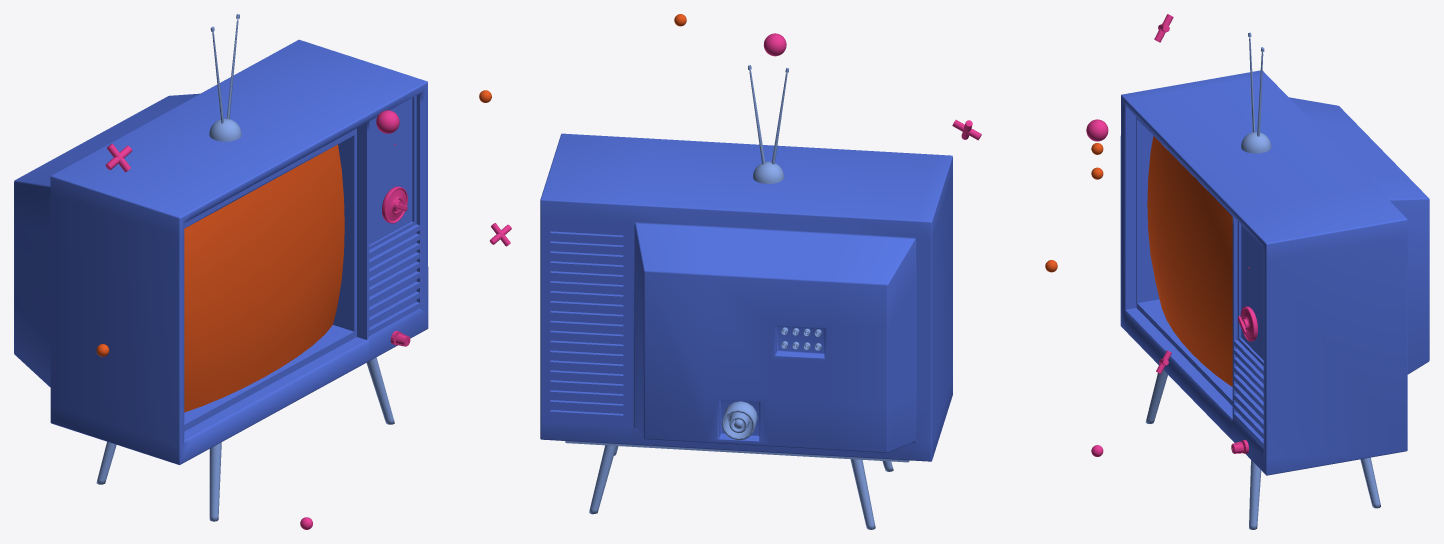
Rendered from television-3d-animated-icon-514148208256.glb.
3 renders of one model, left to right at view 1: azimuth 30°, elevation 25°; view 2: azimuth 150°, elevation 25°; view 3: azimuth 270°, elevation 25°, orthographic. The views are drawn at different scales.
Visible parts, largest first — view 1: Television.001, Television, Television.003, antena, button; view 2: Television.001, Television.003, antena, Television.016; view 3: Television.001, Television, Television.003, antena, button.
Part boxes in pixels (x1,y1,x2,y2): Television.001: (14,39,428,464); Television: (184,144,344,412); Television.003: (96,357,394,521); antena: (209,14,241,141); button: (382,186,407,223); Television.001: (540,133,952,461); Television.003: (565,441,909,529); antena: (748,65,788,183); Television.016: (721,401,757,440); Television.001: (1120,70,1429,475); Television: (1147,136,1232,386); Television.003: (1145,370,1380,529); antena: (1241,32,1271,153); button: (1238,306,1257,341).
Bounding box in the file's own units: 5.71 × 5.41 × 4.03.
